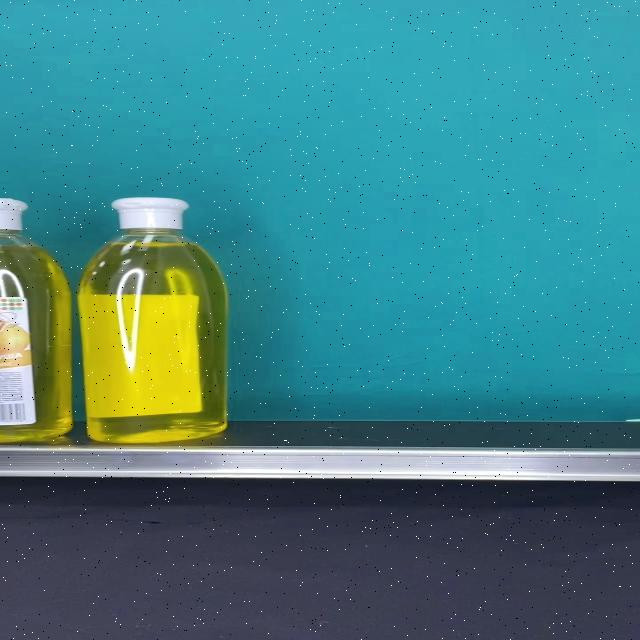Bottle: (76, 198, 228, 443)
Cap: (112, 198, 191, 230)
